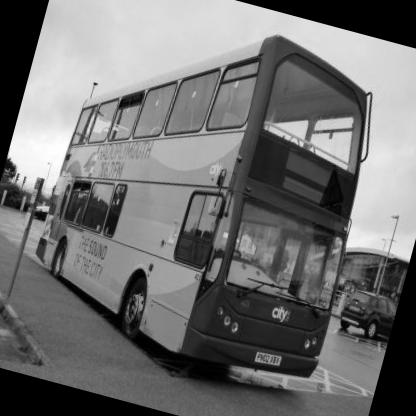bus: (1, 1, 404, 404)
